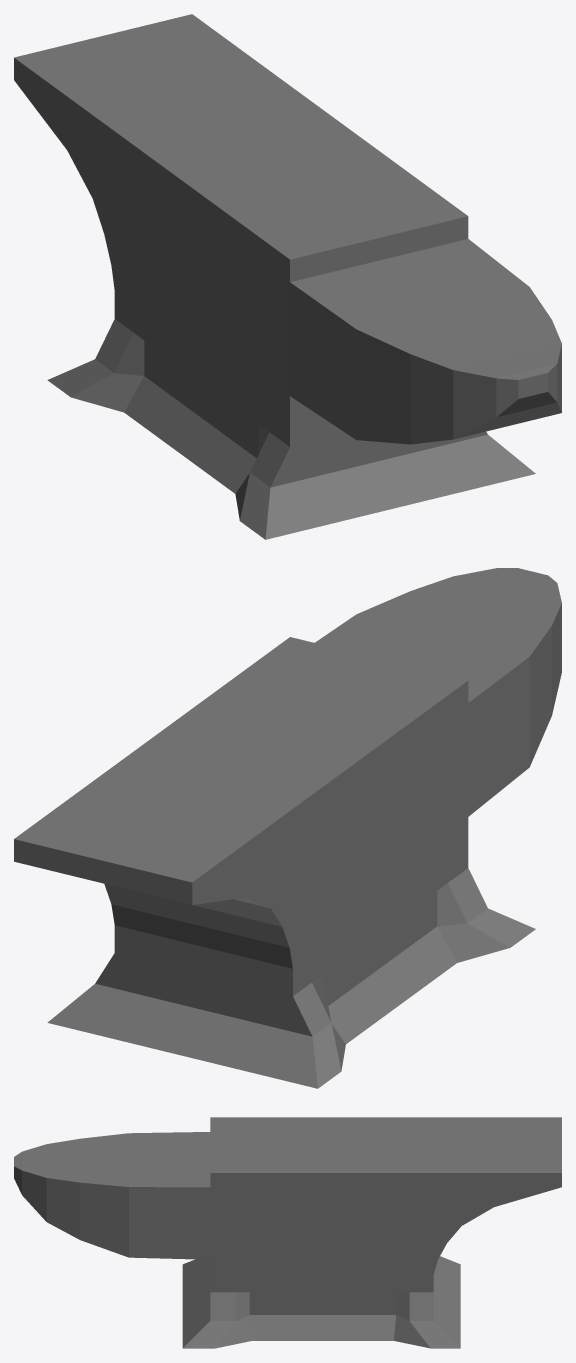
The model's file is Anvil.fbx.
The picture shows the model from 3 angles, top to bottom: view 1: azimuth 30°, elevation 25°; view 2: azimuth 150°, elevation 25°; view 3: azimuth 270°, elevation 25°; orthographic projection. The views are drawn at different scales.
Visible parts, largest first — view 1: Cube; view 2: Cube; view 3: Cube.
Part boxes in pixels (x1=…): Cube: x1=14, y1=14, x2=561, y2=539; Cube: x1=14, y1=568, x2=561, y2=1088; Cube: x1=14, y1=1117, x2=561, y2=1348.
Bounding box in the file's own units: 40.15 × 35.88 × 111.
